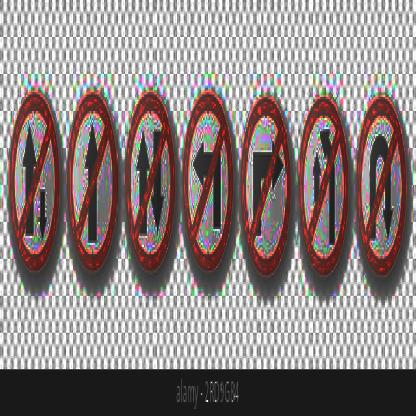No U-turn: (356, 95, 408, 288)
